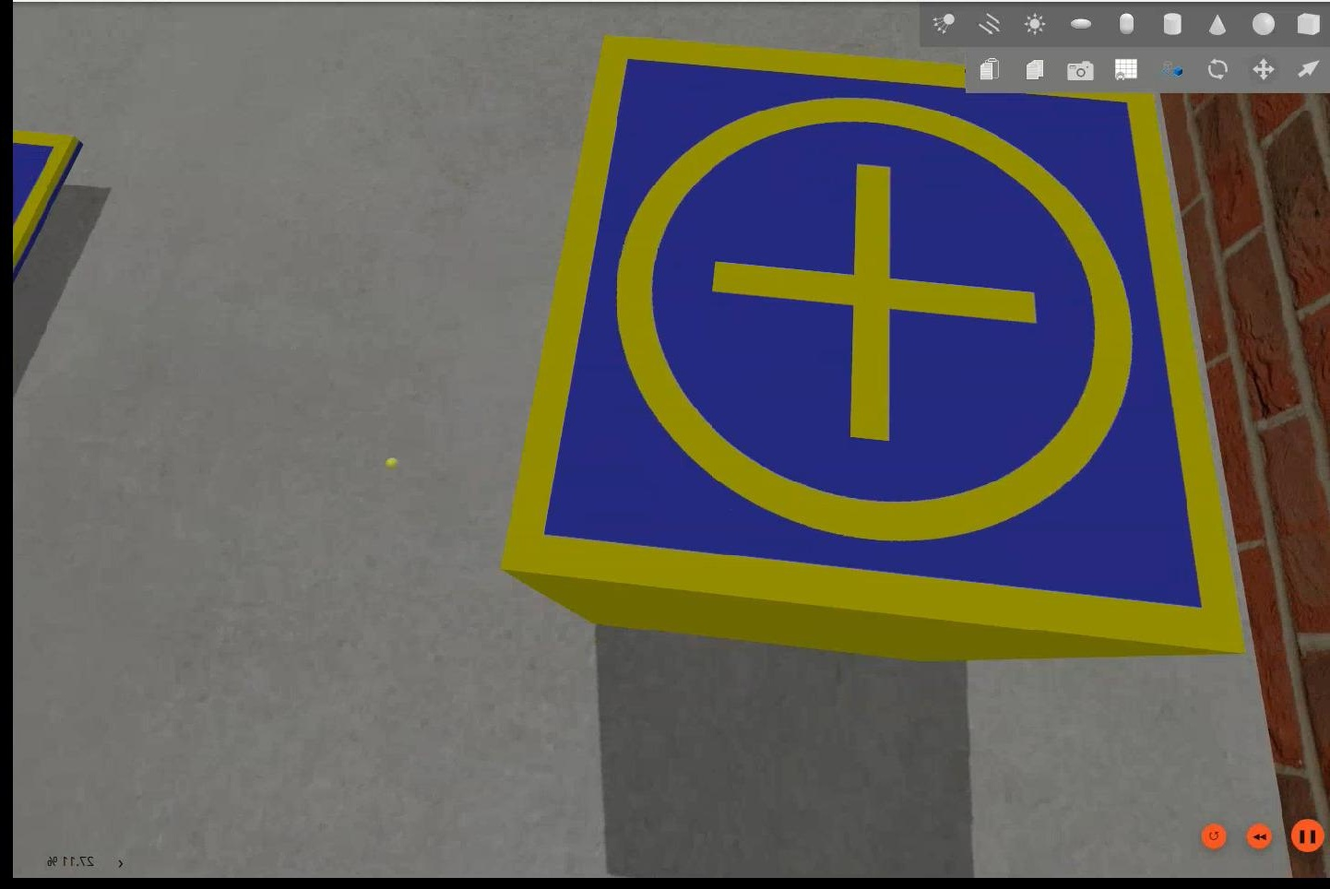small_base: (499, 36, 1243, 660)
